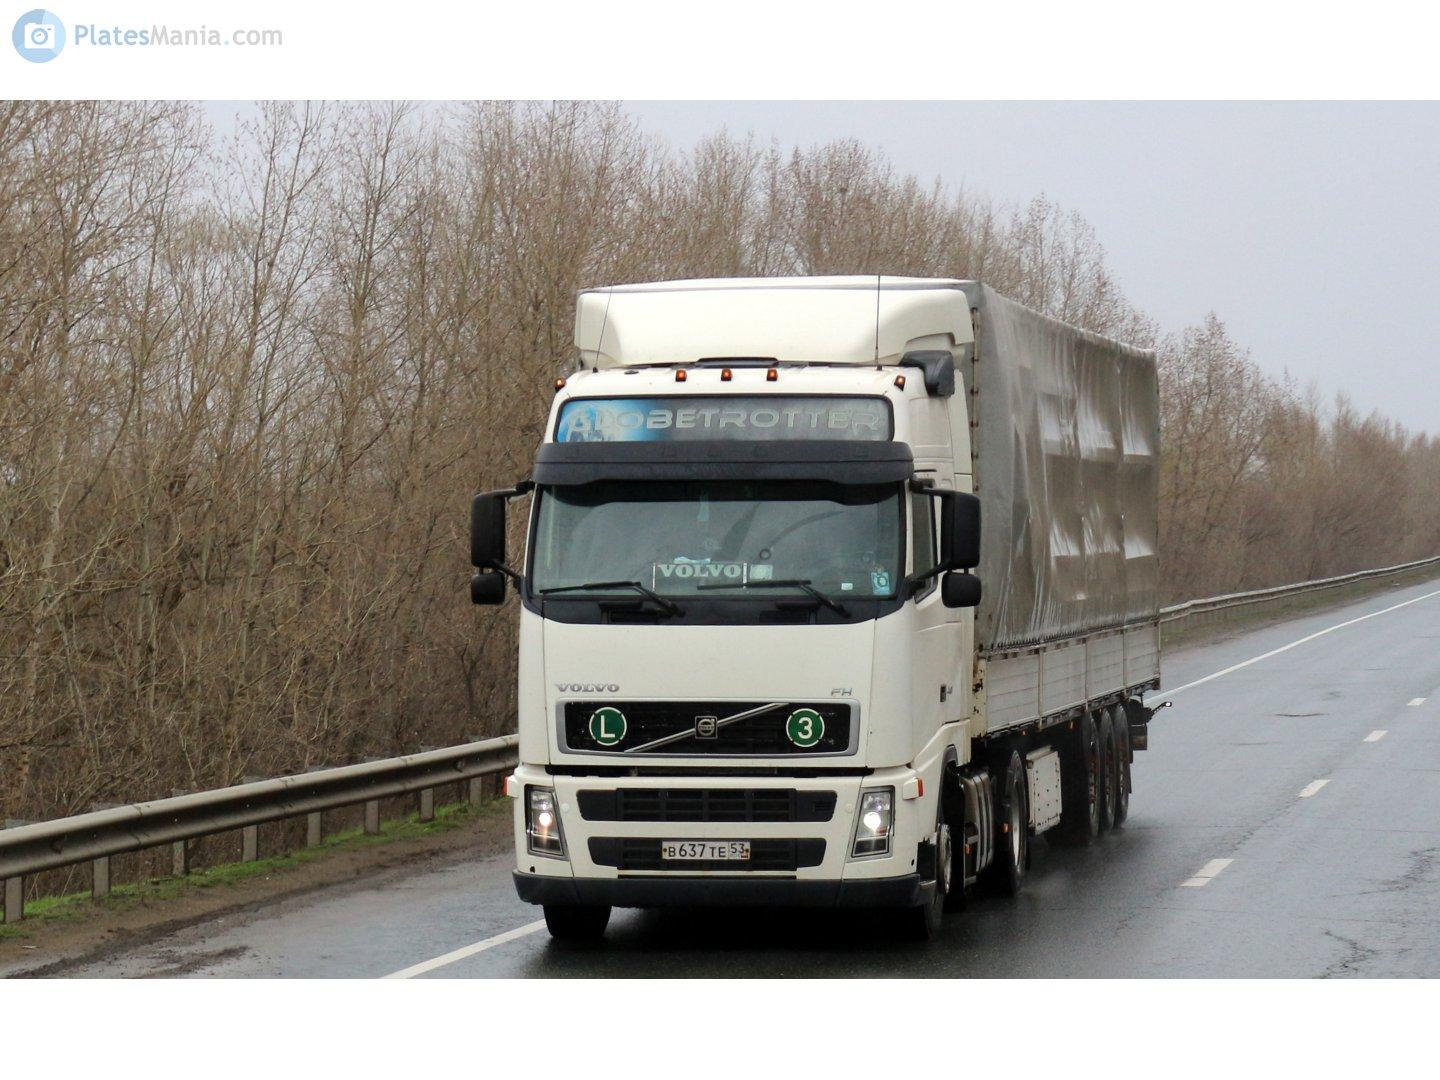license-plateSW: (660, 841, 748, 858)
